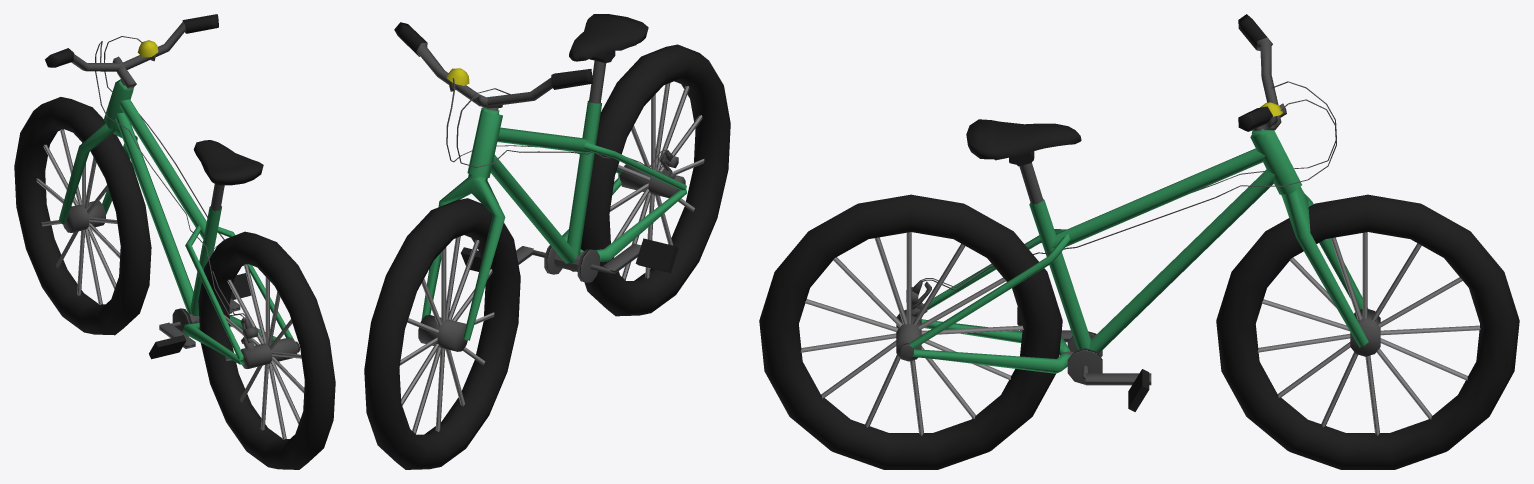
Rendered from Bike_v1.fbx.
3 views of the same model, side by side, from view 1: azimuth 30°, elevation 25°; view 2: azimuth 150°, elevation 25°; view 3: azimuth 270°, elevation 25° (orthographic). The views are drawn at different scales.
Parts seen in each view (by area): view 1: Bike_Wheels, Bike_Frame_Metal, Bike_metal, Bike_Details; view 2: Bike_Wheels, Bike_Frame_Metal, Bike_metal, Bike_Details; view 3: Bike_Wheels, Bike_Frame_Metal, Bike_metal, Bike_Details.
Boxes of the visible parts, x1,y1,x2,y2 form: Bike_Wheels: (14,97,335,469); Bike_Frame_Metal: (59,79,294,364); Bike_metal: (36,14,304,439); Bike_Details: (95,36,299,368); Bike_Wheels: (364,44,730,469); Bike_Frame_Metal: (421,100,686,340); Bike_metal: (394,22,704,433); Bike_Details: (446,14,685,282); Bike_Wheels: (759,194,1519,469); Bike_Frame_Metal: (908,129,1368,373); Bike_metal: (800,14,1480,435); Bike_Details: (896,81,1336,411).
Bounding box in the file's own units: 8.15 × 14.68 × 24.93.
